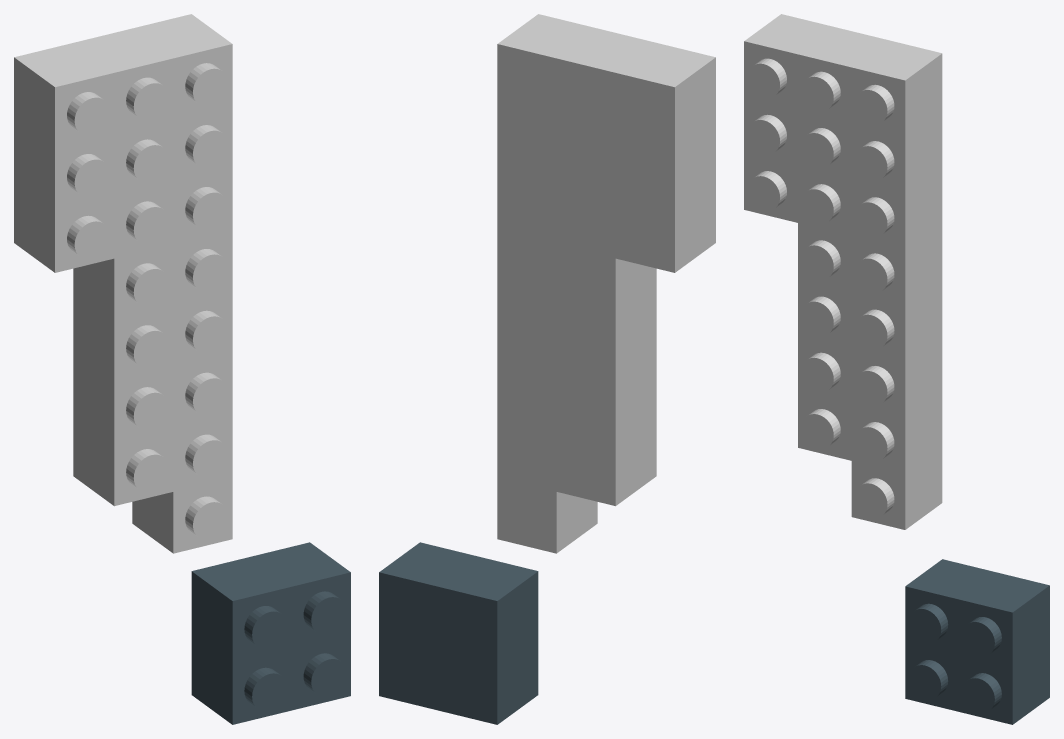
Rendered from current.glb.
The picture shows the model from 3 angles, left to right: view 1: azimuth 30°, elevation 25°; view 2: azimuth 150°, elevation 25°; view 3: azimuth 330°, elevation 25°; orthographic projection. The views are drawn at different scales.
Parts seen in each view (by area): view 1: world; view 2: world; view 3: world.
Part boxes in pixels (<box>): world: <box>14,14,350,724</box>; world: <box>379,14,715,724</box>; world: <box>744,14,1049,724</box>.
Bounding box in the file's own units: 40 × 88 × 11.4.
